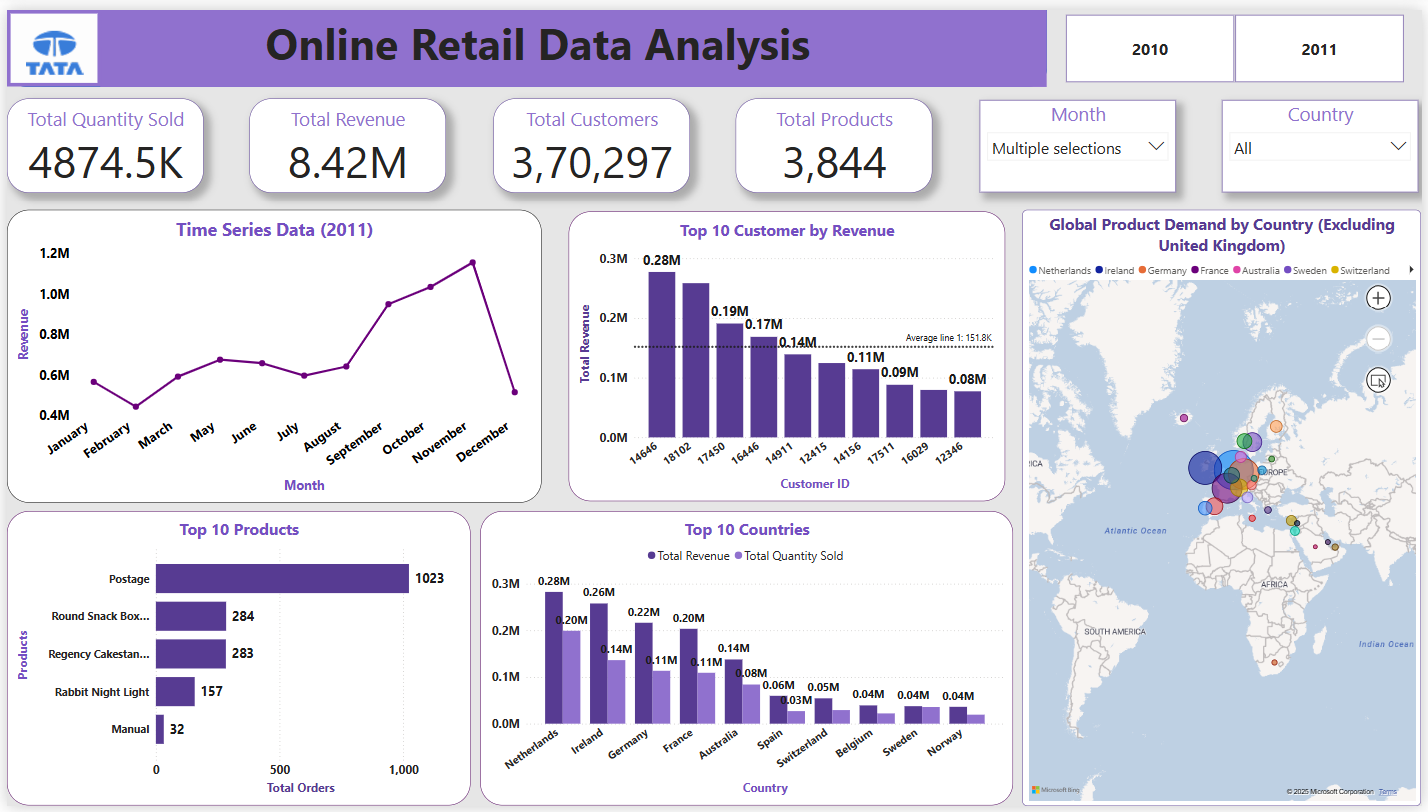

What the dashboard file says about the page in this screenshot:
{"tool":"powerbi","page":{"name":"Dashboard","canvas":[1920,1080],"ordinal":6},"visuals":[{"type":"shape","box":[0,0,1411.6,104.5],"z":0},{"type":"textbox","box":[127,0,1284.6,104.5],"z":1000},{"type":"image","box":[0,0,128,104],"z":2000},{"type":"slicer","fields":{"Values":["Working Sheet.Year"]},"box":[1411.6,0,508.1,104.5],"z":3000},{"type":"card","title":"Total Quantity Sold","fields":{"Values":["Sum(Working Sheet.Quantity)"]},"box":[0,120.1,266.9,128],"z":4000},{"type":"card","title":"Total Revenue","fields":{"Values":["Sum(Working Sheet.Revenue)"]},"box":[330,120.1,266.9,128],"z":5000},{"type":"slicer","title":"Month","fields":{"Values":["Working Sheet.MonthName"]},"box":[1319.9,121.6,266.3,125],"z":6000},{"type":"slicer","title":"Country","fields":{"Values":["Working Sheet.Country"]},"box":[1649.2,121.6,266.3,125],"z":7000},{"type":"card","title":"Total Products","fields":{"Values":["Count(Working Sheet.Description)"]},"box":[989.9,120.1,266.9,128],"z":8000},{"type":"card","title":"Total Customers","fields":{"Values":["CountNonNull(Working Sheet.Customer ID)"]},"box":[659.9,120.1,266.9,128],"z":9000},{"type":"lineChart","title":"Time Series Data (2011)","fields":{"Y":["Sum(Working Sheet.Revenue)"],"Category":["Working Sheet.Date.Variation.Date Hierarchy.Month"]},"box":[0,270.4,725.2,397.5],"z":10000},{"type":"clusteredColumnChart","title":"Top 10 Countries","fields":{"Category":["Working Sheet.Country"],"Y":["Sum(Working Sheet.Revenue)","Sum(Working Sheet.Quantity)"]},"box":[643.3,680.2,723.2,399.5],"z":11000},{"type":"map","title":"Global Product Demand by Country (Excluding  United Kingdom)","fields":{"Category":["Working Sheet.Country"],"Size":["Sum(Working Sheet.Quantity)"],"Series":["Working Sheet.Country"]},"box":[1378.8,270.4,540.9,809.2],"z":12000},{"type":"clusteredColumnChart","title":"Top 10 Customer by Revenue","fields":{"Category":["Working Sheet.Customer ID"],"Y":["Sum(Working Sheet.Revenue)"]},"box":[762.1,272.5,592.1,393.4],"z":13000},{"type":"clusteredBarChart","title":"Top 10 Products","fields":{"Y":["CountNonNull(Working Sheet.Description)"],"Category":["Working Sheet.Description"]},"box":[0,680.2,629,399.5],"z":14000}]}

Visuals, with their boxes in screenshot pixels (x1, y1, x2, y2), scaled from the page's 1920x1080 canvas onto the 1428x812 screenshot:
shape: l=0, t=0, r=1050, b=79
textbox: l=94, t=0, r=1050, b=79
image: l=0, t=0, r=95, b=78
slicer - Working Sheet.Year: l=1050, t=0, r=1427, b=79
"Total Quantity Sold" card: l=0, t=90, r=199, b=187
"Total Revenue" card: l=245, t=90, r=444, b=187
"Month" slicer: l=982, t=91, r=1180, b=185
"Country" slicer: l=1227, t=91, r=1425, b=185
"Total Products" card: l=736, t=90, r=935, b=187
"Total Customers" card: l=491, t=90, r=689, b=187
"Time Series Data (2011)" lineChart: l=0, t=203, r=539, b=502
"Top 10 Countries" clusteredColumnChart: l=478, t=511, r=1016, b=811
"Global Product Demand by Country (Excluding  United Kingdom)" map: l=1025, t=203, r=1427, b=811
"Top 10 Customer by Revenue" clusteredColumnChart: l=567, t=205, r=1007, b=501
"Top 10 Products" clusteredBarChart: l=0, t=511, r=468, b=811
